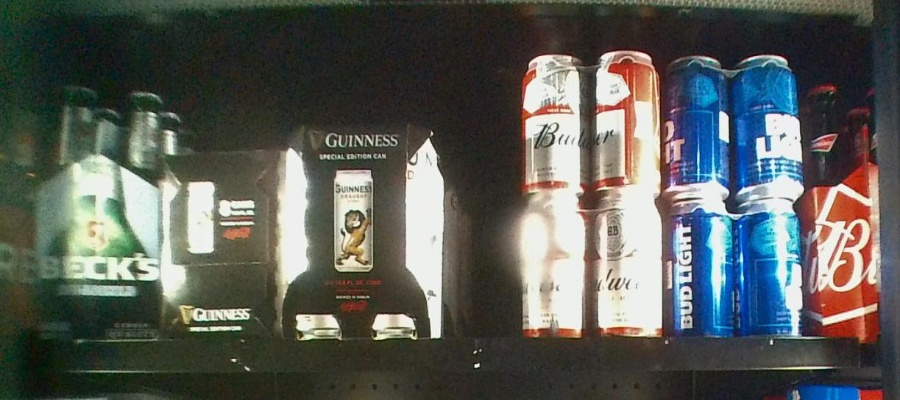bottle: (520, 52, 663, 336), (665, 55, 804, 336), (34, 86, 159, 340), (290, 122, 430, 337), (159, 144, 292, 346)
